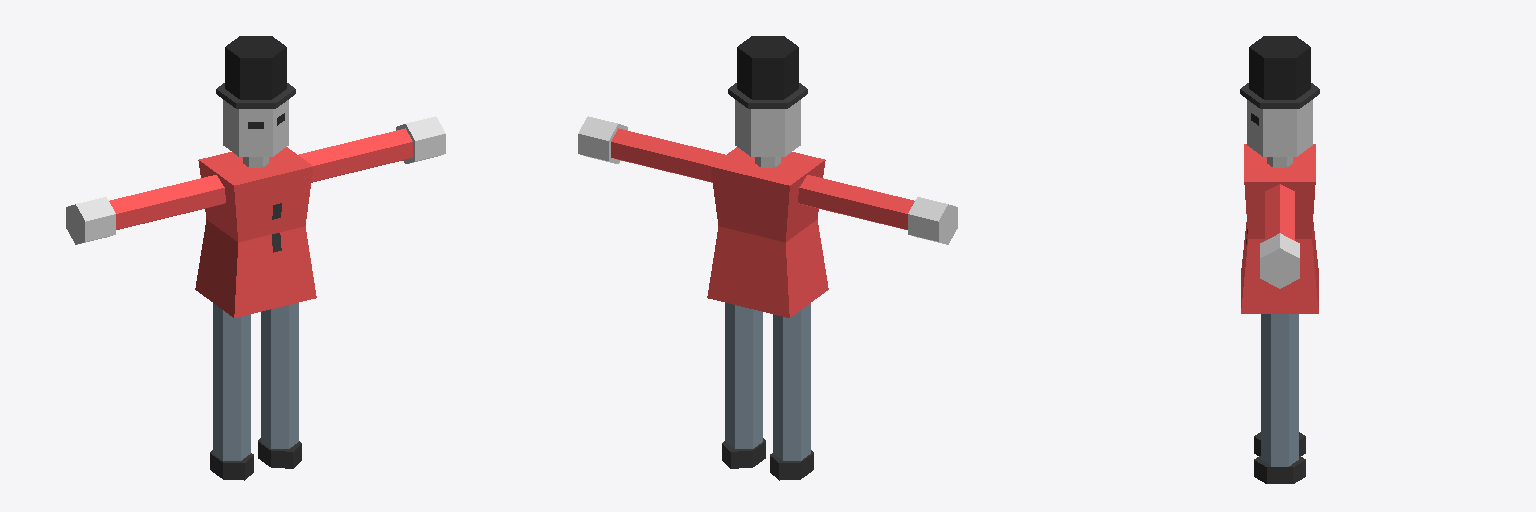
The model's file is newscene.obj.
3 views of the same model, side by side, from view 1: azimuth 30°, elevation 25°; view 2: azimuth 150°, elevation 25°; view 3: azimuth 270°, elevation 25° (orthographic).
Parts seen in each view (by area): view 1: cube143, cylinder145, cylinder148, cylinder132, cylinder131; view 2: cube143, cylinder145, cylinder148, cylinder132, cylinder131; view 3: cube143, cylinder145, cylinder132, cylinder148, cylinder131.
Part boxes in pixels (x1,y1,x2,y2): cube143: (195, 147, 316, 317); cylinder145: (210, 303, 301, 480); cylinder148: (66, 116, 445, 244); cylinder132: (216, 36, 295, 108); cylinder131: (223, 100, 288, 156); cube143: (707, 147, 828, 317); cylinder145: (722, 303, 813, 480); cylinder148: (578, 116, 957, 244); cylinder132: (728, 36, 807, 108); cylinder131: (735, 100, 800, 156); cube143: (1241, 144, 1318, 313); cylinder145: (1254, 314, 1305, 483); cylinder132: (1240, 36, 1319, 108); cylinder148: (1260, 184, 1299, 288); cylinder131: (1247, 100, 1312, 156).
Size of the model in its own units: 587 by 651 by 113.